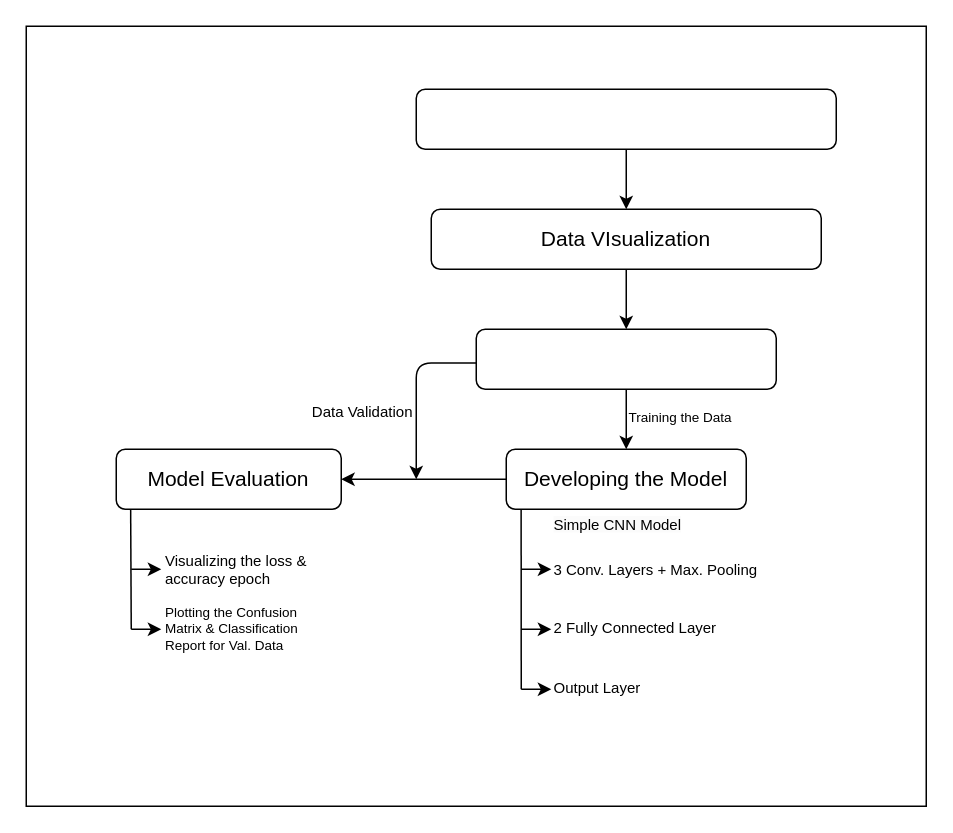
Some shapes in this 953 by 833 pixel diagram are drawn without their labels. The shapes that lost their labels are listed below. From the top down, each one's centre as x and y in pixels, then its label:
At pixel 625 118: "Importing Libraries and Datasets".
At pixel 625 358: "Image Data Processing".
